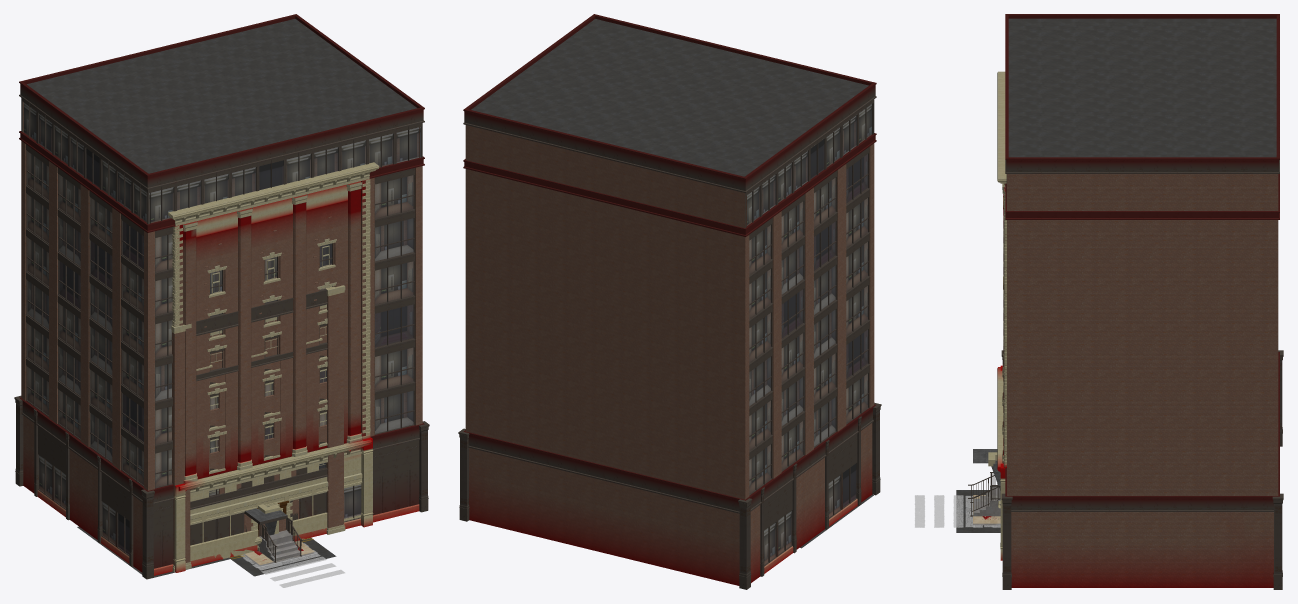
File: downtown.glb
The picture shows the model from 3 angles, left to right: view 1: azimuth 30°, elevation 25°; view 2: azimuth 150°, elevation 25°; view 3: azimuth 270°, elevation 25°; orthographic projection. The views are drawn at different scales.
Parts seen in each view (by area): view 1: Building_Large_2, Building_Medium_2.001, Building_Small_1, Street_Asphalt_6x6, Decal_Crosswalk_Wide, Roof_Slate_InnerCorner; view 2: Building_Large_2; view 3: Building_Large_2, Building_Medium_2.001, Decal_Crosswalk_Wide, Street_Asphalt_6x6, Building_Small_1.
Boxes of the visible parts, box(x1,y1,x2,y2) form: Building_Large_2: box(14, 14, 429, 579); Building_Medium_2.001: box(168, 162, 379, 572); Building_Small_1: box(171, 285, 345, 572); Street_Asphalt_6x6: box(231, 538, 336, 576); Decal_Crosswalk_Wide: box(243, 543, 344, 587); Roof_Slate_InnerCorner: box(244, 508, 287, 535); Building_Large_2: box(458, 14, 881, 589); Building_Large_2: box(1001, 14, 1283, 589); Building_Medium_2.001: box(997, 71, 1006, 560); Decal_Crosswalk_Wide: box(915, 495, 1000, 527); Street_Asphalt_6x6: box(956, 490, 1000, 532); Building_Small_1: box(968, 196, 1003, 516).
Bounding box in the file's own units: 20.64 × 28.2 × 22.03.
Materials: 15 (13 with a texture image).
